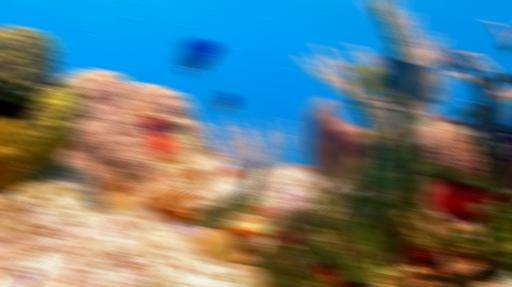Fish: (363, 57, 436, 107), (176, 40, 221, 76), (213, 90, 238, 116)
